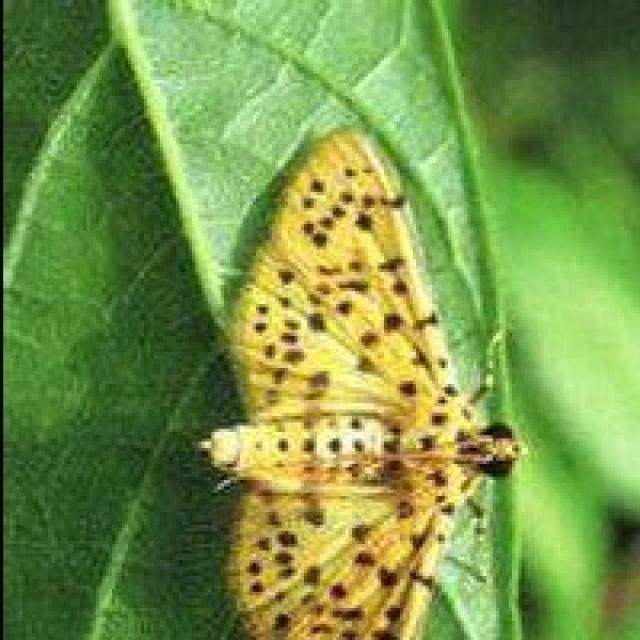peach borer: (206, 129, 545, 640)
